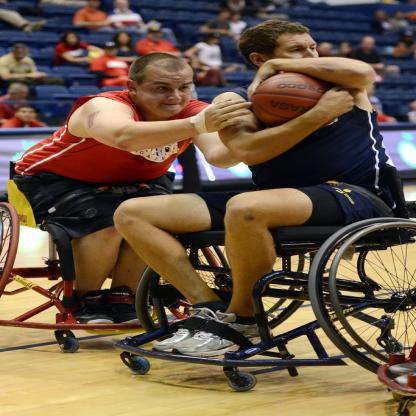Ball: (250, 74, 324, 126)
